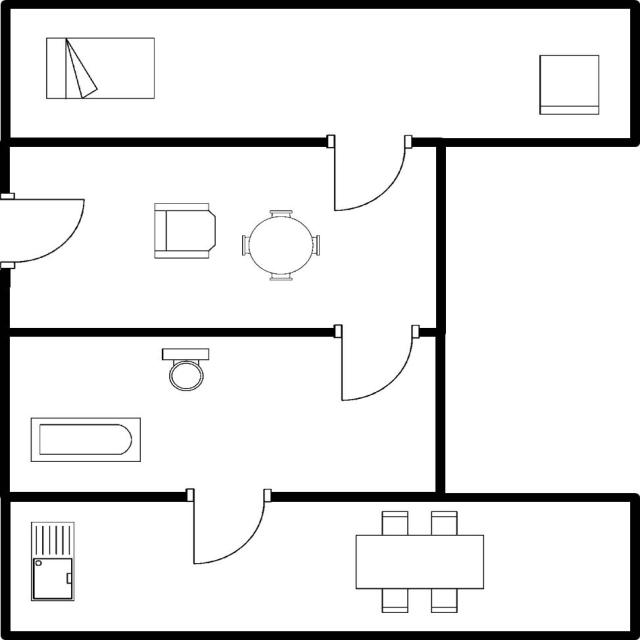armchair: (147, 198, 220, 262)
bed: (40, 32, 158, 102)
dining_table: (349, 506, 492, 616)
large_sink: (158, 342, 212, 396)
round_table: (238, 204, 326, 284)
sink: (26, 516, 80, 606)
small_sofa: (535, 49, 603, 118)
tub: (26, 412, 146, 466)
